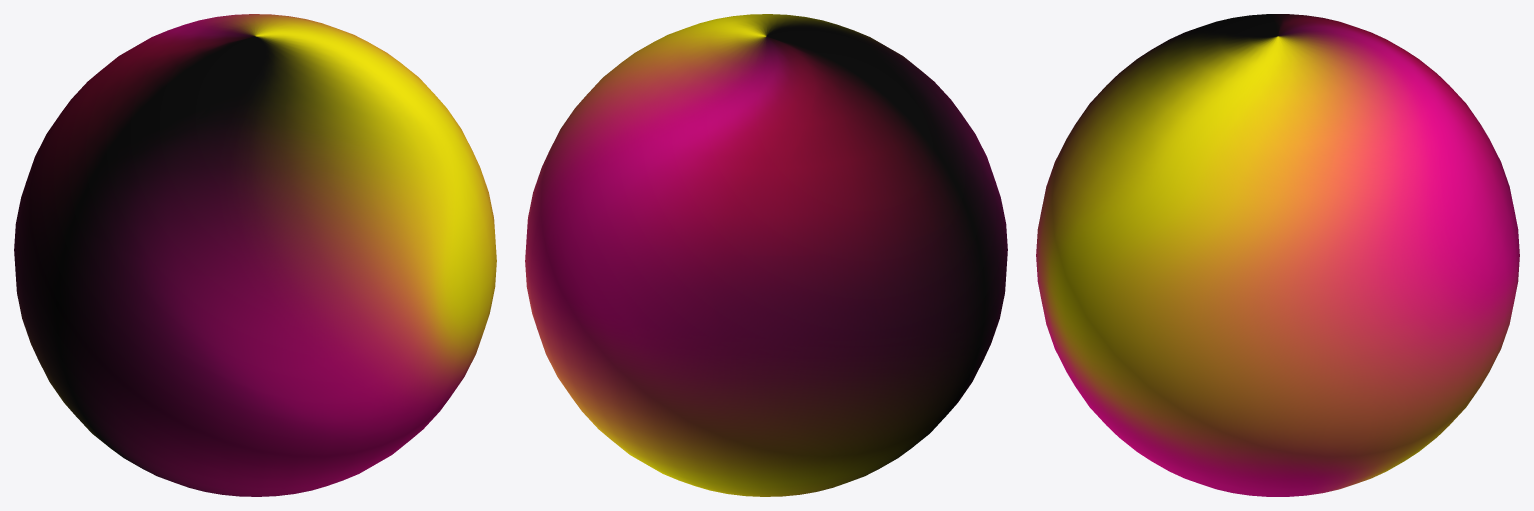
The model's file is ball_texture-web.glb.
3 renders of one model, left to right at view 1: azimuth 30°, elevation 25°; view 2: azimuth 150°, elevation 25°; view 3: azimuth 270°, elevation 25°, orthographic.
Parts seen in each view (by area): view 1: Sphere; view 2: Sphere; view 3: Sphere.
Boxes of the visible parts, left/top/right/bottom form: Sphere: left=14, top=14, right=496, bottom=496; Sphere: left=525, top=14, right=1007, bottom=496; Sphere: left=1036, top=14, right=1519, bottom=496.
Size of the model in its own units: 1.99 by 2 by 2.
1 material, 1 textured.
